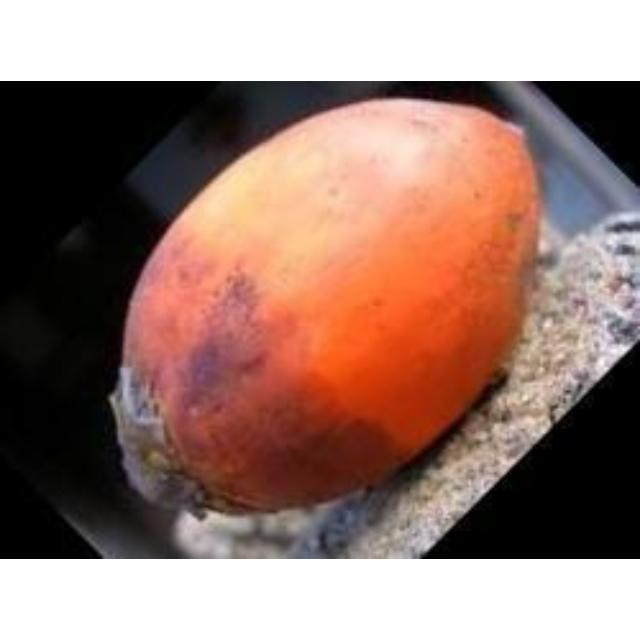good: (105, 96, 545, 557)
